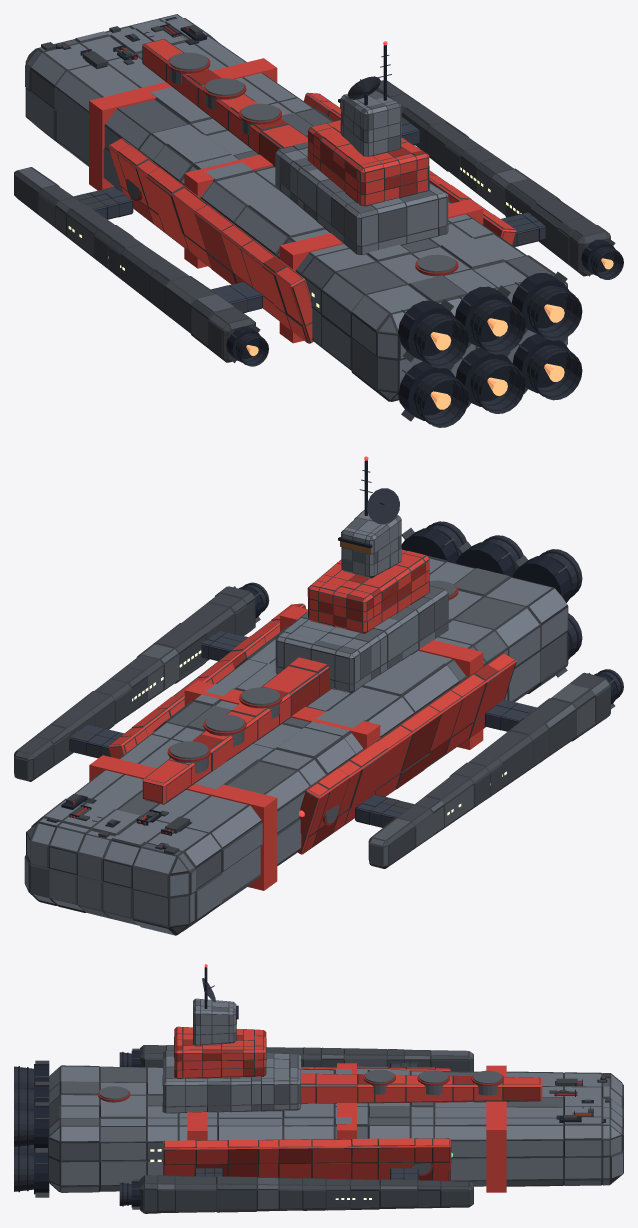
Rendered from juggernaut.glb.
3 renders of one model, top to bottom at view 1: azimuth 30°, elevation 25°; view 2: azimuth 150°, elevation 25°; view 3: azimuth 270°, elevation 25°, orthographic. The views are drawn at different scales.
Visible parts, largest first — view 1: juggernaut_mesh; view 2: juggernaut_mesh, radar_mesh; view 3: juggernaut_mesh.
Part boxes in pixels (box(x1,y1,x2,y2)): juggernaut_mesh: box(14, 14, 623, 427); juggernaut_mesh: box(14, 460, 623, 935); radar_mesh: box(367, 488, 399, 524); juggernaut_mesh: box(14, 967, 623, 1213).
Bounding box in the file's own units: 32.37 × 22.26 × 58.35.
